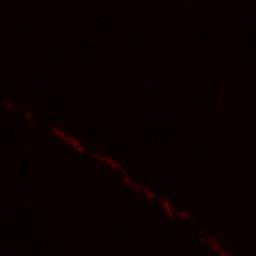debris: (201, 232, 233, 256), (53, 127, 79, 147), (157, 195, 178, 216), (92, 153, 117, 166), (124, 174, 141, 191), (178, 208, 196, 218), (144, 188, 157, 201), (75, 144, 90, 155), (22, 110, 34, 120)
